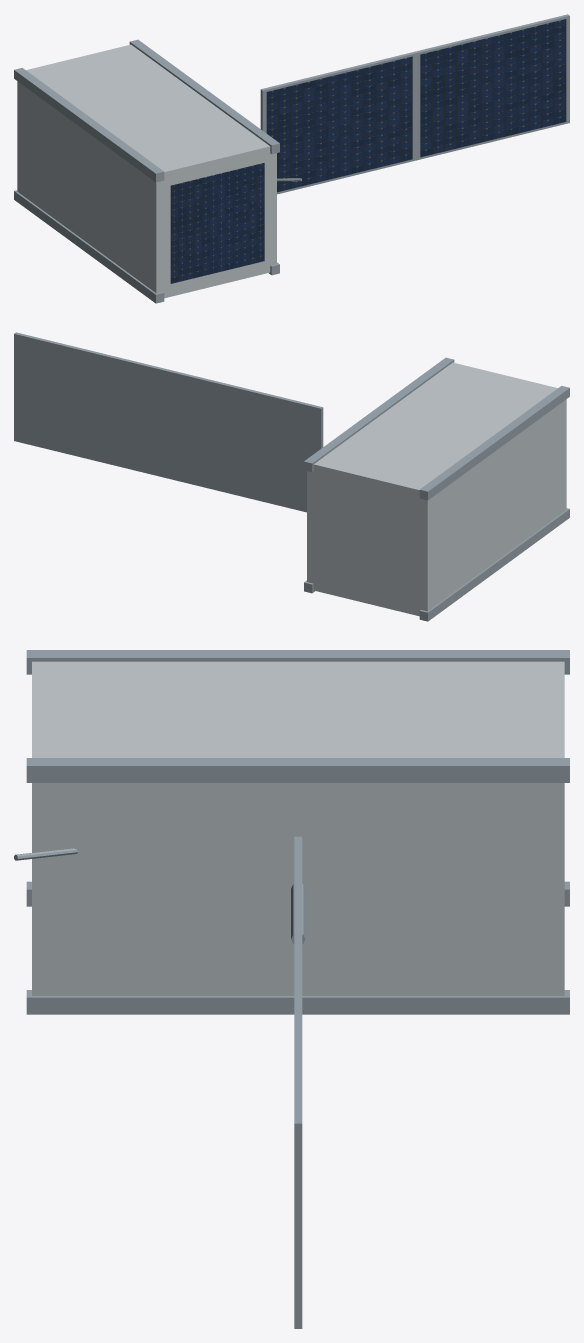
The model's file is ref-cubesat-6u-43546.glb.
The picture shows the model from 3 angles, top to bottom: view 1: azimuth 30°, elevation 25°; view 2: azimuth 150°, elevation 25°; view 3: azimuth 270°, elevation 25°; orthographic projection. The views are drawn at different scales.
Visible parts, largest first — view 1: Spacecraft body, Photovoltaic laminates (×2), Body-mounted cells, Dispenser rail (×3), Array frame (×2); view 2: Spacecraft body, Array frame (×2), Dispenser rail (×3); view 3: Spacecraft body, Dispenser rail (×3), Array frame (×2).
Boxes of the visible parts, left/top/right/bottom form: Spacecraft body: left=17, top=44, right=276, bottom=298; Photovoltaic laminates (×2): left=266, top=19, right=566, bottom=192; Body-mounted cells: left=170, top=163, right=264, bottom=283; Dispenser rail (×3): left=14, top=39, right=279, bottom=303; Array frame (×2): left=260, top=14, right=569, bottom=194; Spacecraft body: left=307, top=362, right=566, bottom=616; Array frame (×2): left=14, top=332, right=323, bottom=512; Dispenser rail (×3): left=304, top=357, right=569, bottom=621; Spacecraft body: left=32, top=661, right=564, bottom=995; Dispenser rail (×3): left=26, top=650, right=569, bottom=1014; Array frame (×2): left=294, top=836, right=302, bottom=1328.
Bounding box in the file's own units: 0.803 × 0.206 × 0.4175.
3 materials, 1 textured.
